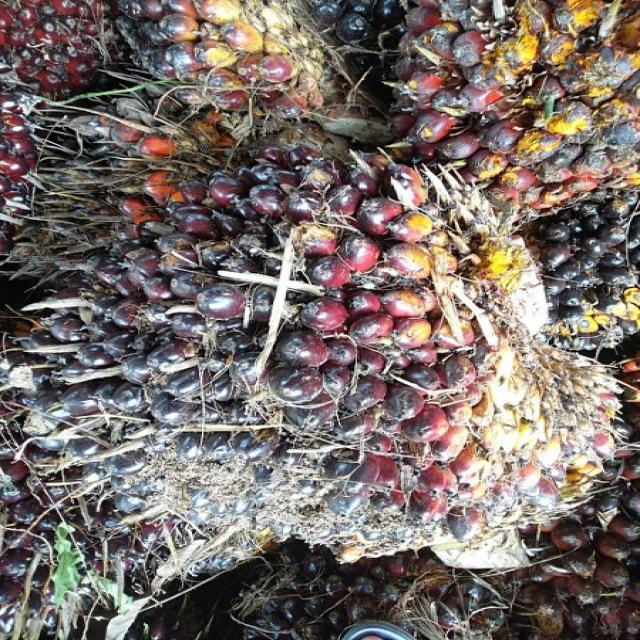fraksi 1: (32, 161, 596, 557)
